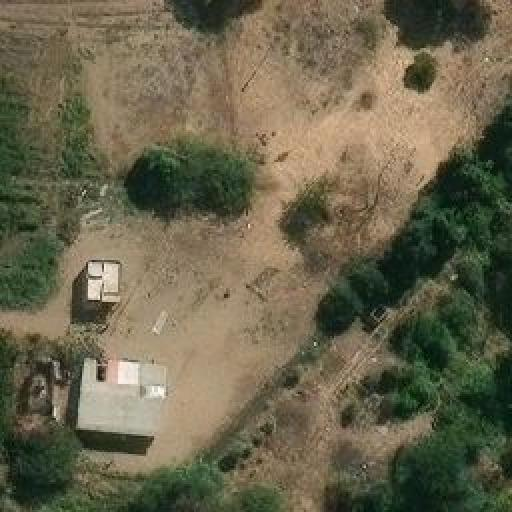manzanas: (72, 353, 171, 444), (81, 256, 123, 309)
